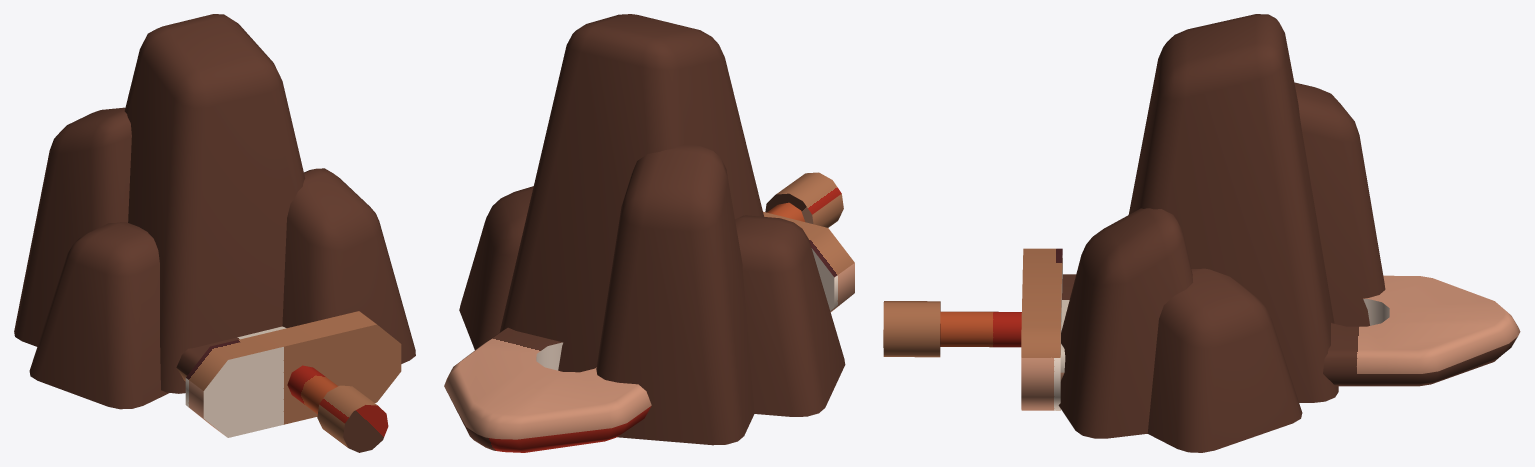
File: mdl_rock.fbx
The picture shows the model from 3 angles, left to right: view 1: azimuth 30°, elevation 25°; view 2: azimuth 150°, elevation 25°; view 3: azimuth 270°, elevation 25°; orthographic projection. The views are drawn at different scales.
Parts seen in each view (by area): view 1: mdl_rock, mdl_gros_epee; view 2: mdl_rock, mdl_gros_epee; view 3: mdl_rock, mdl_gros_epee.
Part boxes in pixels (x1=…): mdl_rock: x1=14, y1=14, x2=415, y2=409; mdl_gros_epee: x1=176, y1=311, x2=401, y2=452; mdl_rock: x1=459, y1=14, x2=845, y2=445; mdl_gros_epee: x1=444, y1=172, x2=854, y2=452; mdl_rock: x1=1058, y1=14, x2=1385, y2=452; mdl_gros_epee: x1=883, y1=248, x2=1520, y2=410.
Size of what is drawn, in the model's own units: 326 by 287 by 486.
Materials: 1 (1 with a texture image).
